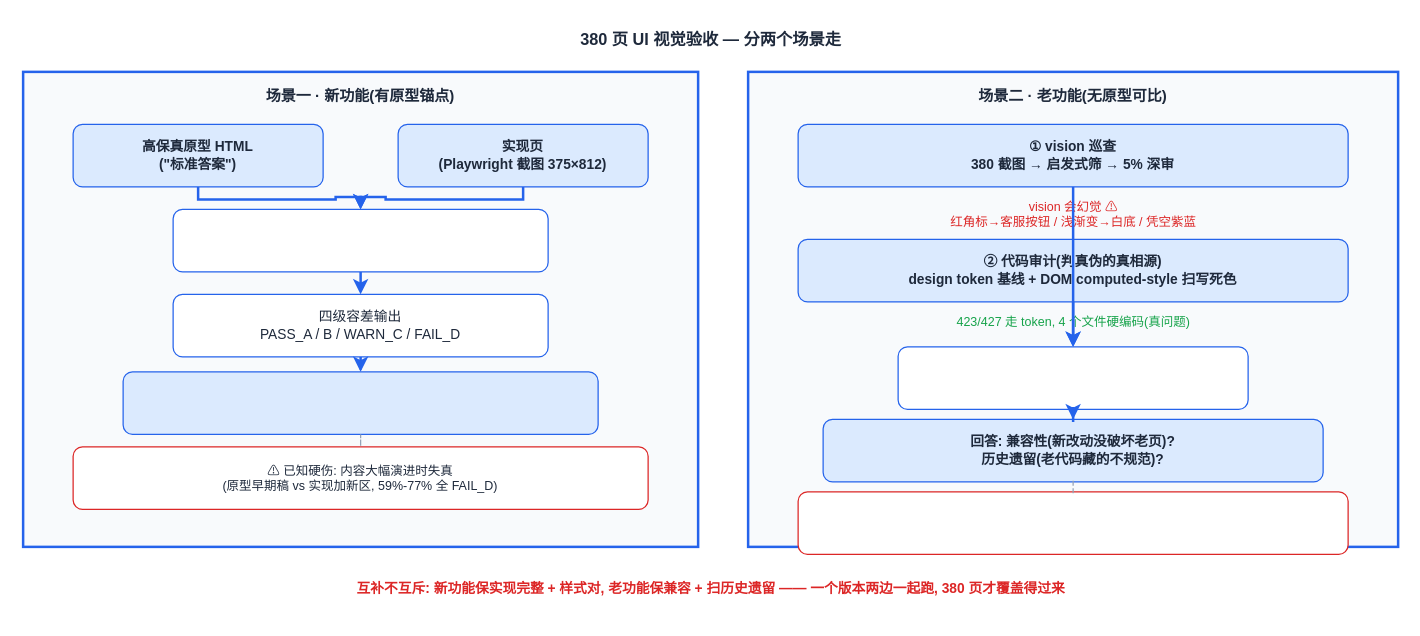
This 1420x636 diagram has some shape labels left out. The shapes that lost their labels are listed below. From the top down, each one's centre as x and y in pixels, then its label:
the point at 360,240: ① pixelmatch 逐像素比对 图片拦截消除噪音 + 主题色 CSS 断言
the point at 1072,377: 交叉验证 vision 出疑点 → 代码审计判真伪
the point at 360,402: 回答:功能全实现了吗? 样式和设计稿一致吗?
the point at 1072,522: ⚠ 回答不了: 老页面"对不对" 没有原型参照, 只能判"有没有变更糟"
